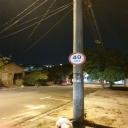speed_limit_40: (67, 52, 87, 65)
